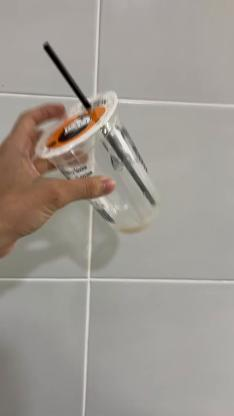Plastic Cup: (36, 93, 164, 235)
